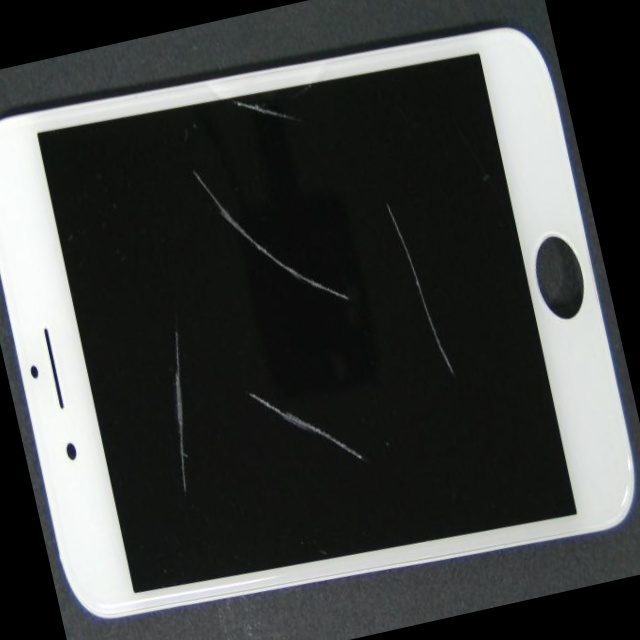scratch: (63, 273, 284, 640)
